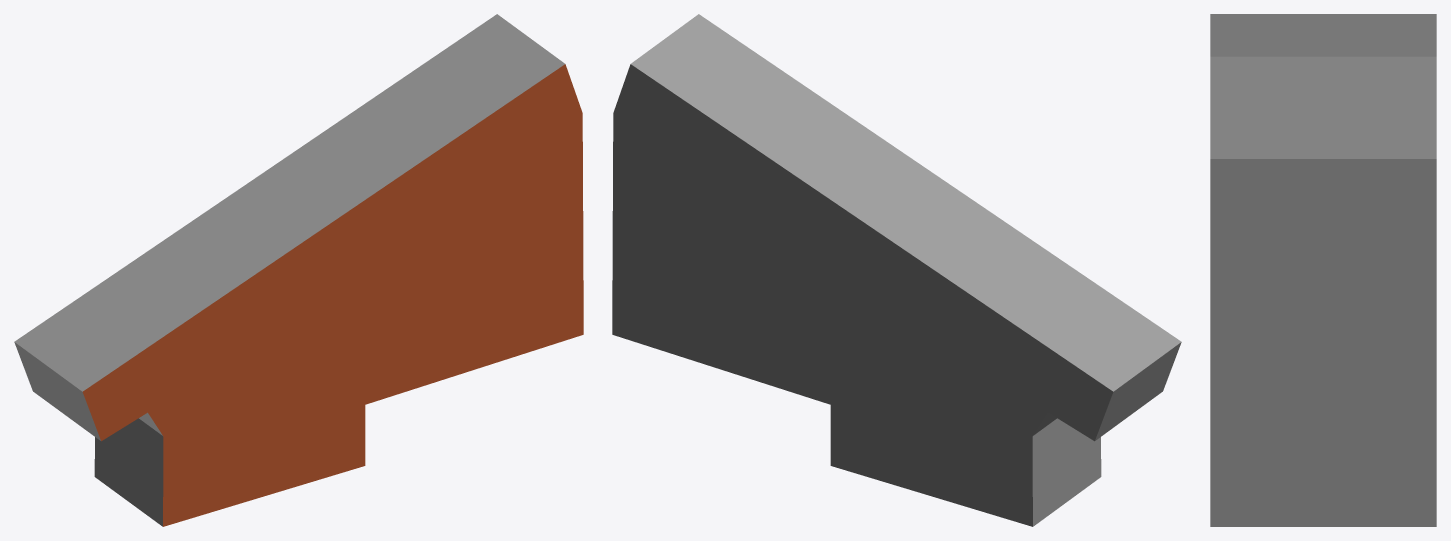
File: construction_4211_assumed_A_Casa_h6m.obj
3 views of the same model, side by side, from view 1: azimuth 30°, elevation 25°; view 2: azimuth 150°, elevation 25°; view 3: azimuth 270°, elevation 25° (orthographic). The views are drawn at different scales.
Parts seen in each view (by area): view 1: construction_4211_assumed_A_Casa; view 2: construction_4211_assumed_A_Casa; view 3: construction_4211_assumed_A_Casa.
Part boxes in pixels (x1,y1,x2,y2): construction_4211_assumed_A_Casa: [14, 14, 583, 526]; construction_4211_assumed_A_Casa: [612, 14, 1181, 526]; construction_4211_assumed_A_Casa: [1210, 14, 1436, 526].
Size of the model in its own units: 25.42 by 17.68 by 6.
